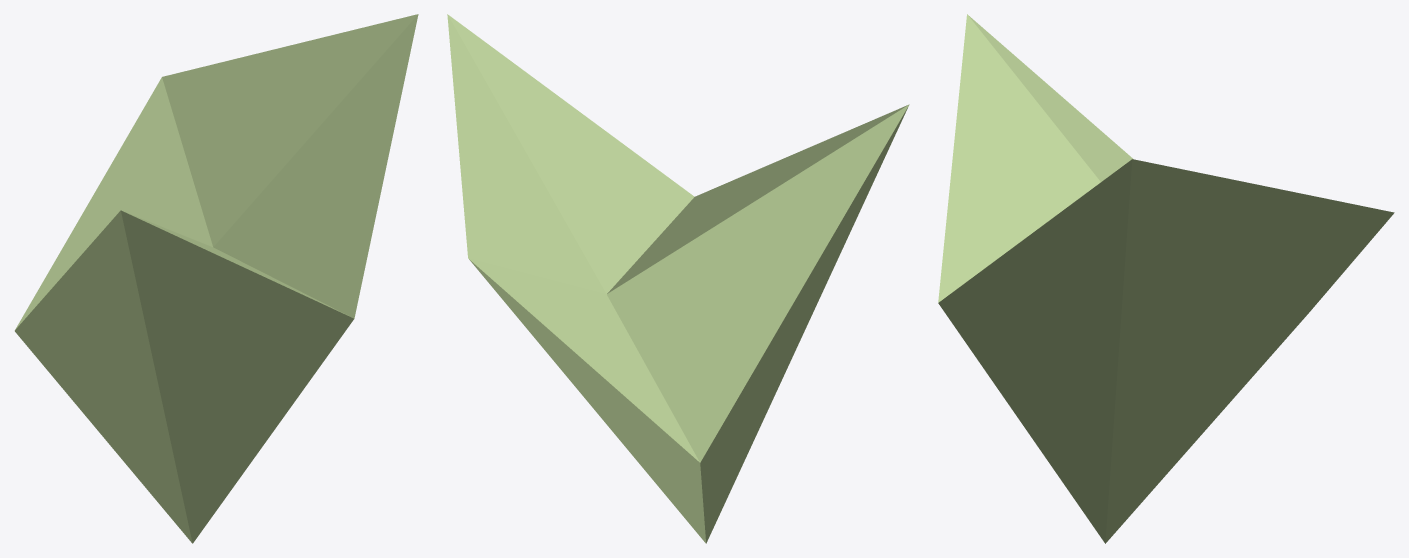
The model's file is leaf-tuft.glb.
The picture shows the model from 3 angles, left to right: view 1: azimuth 30°, elevation 25°; view 2: azimuth 150°, elevation 25°; view 3: azimuth 270°, elevation 25°; orthographic projection. The views are drawn at different scales.
Parts seen in each view (by area): view 1: leaf-tuft; view 2: leaf-tuft; view 3: leaf-tuft.
Boxes of the visible parts, x1,y1,x2,y2 form: leaf-tuft: [14, 14, 418, 543]; leaf-tuft: [447, 14, 909, 543]; leaf-tuft: [938, 14, 1394, 543].
Bounding box in the file's own units: 0.4207 × 0.5 × 0.4028.
